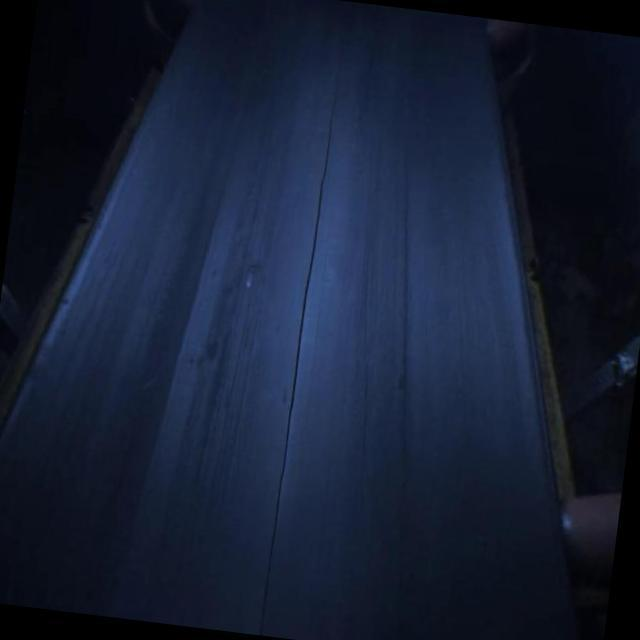Tear: (249, 19, 351, 638)
